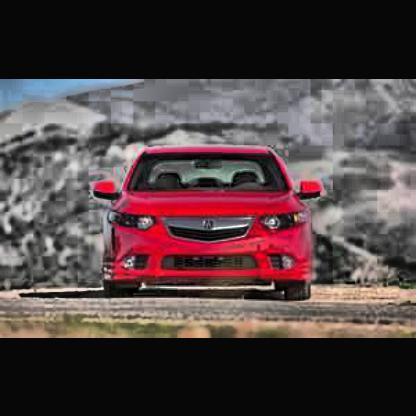Acura TSX Sedan 2012: (96, 145, 327, 303)
